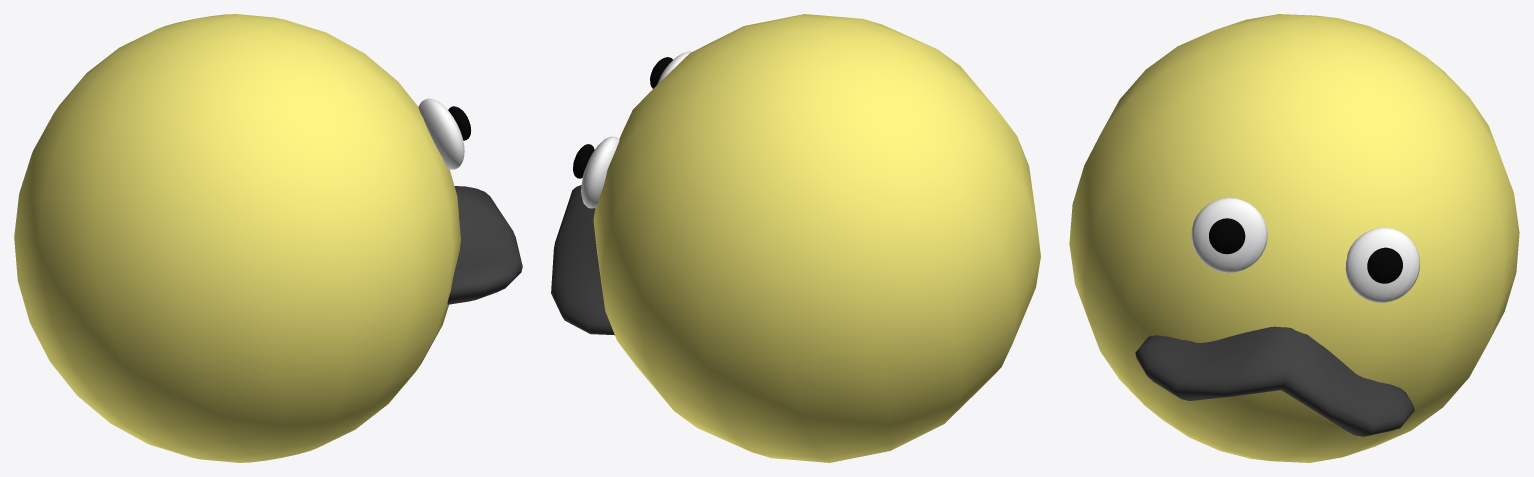
The model's file is moon.fbx.
The picture shows the model from 3 angles, left to right: view 1: azimuth 30°, elevation 25°; view 2: azimuth 150°, elevation 25°; view 3: azimuth 270°, elevation 25°; orthographic projection.
Parts seen in each view (by area): view 1: moon; view 2: moon; view 3: moon.
Boxes of the visible parts, bbox=[...] form: moon: bbox=[14, 14, 522, 462]; moon: bbox=[551, 14, 1040, 462]; moon: bbox=[1069, 14, 1519, 462].
Bounding box in the file's own units: 307 × 351 × 307.
